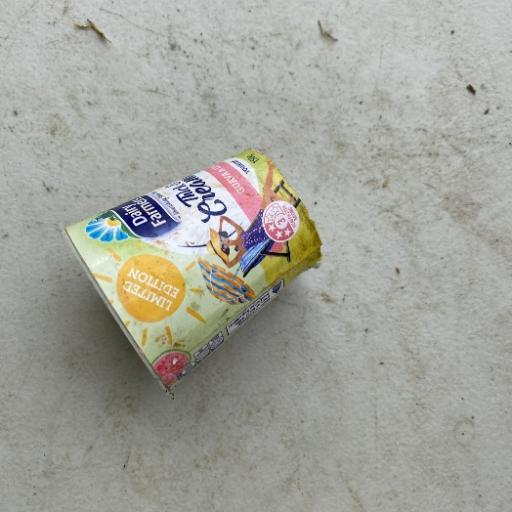Plastic: (62, 146, 324, 398)
